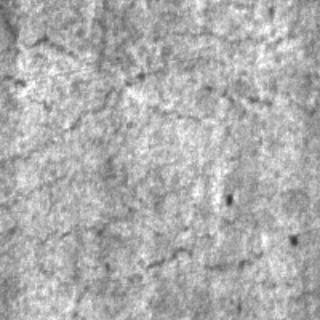crazing: (24, 200, 262, 300), (0, 4, 150, 134)
